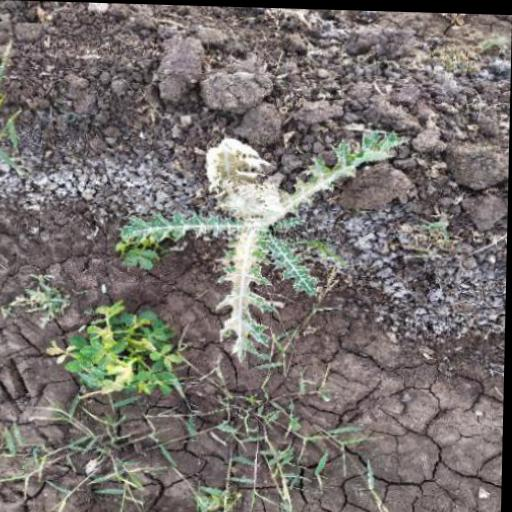weed: (107, 114, 409, 351), (42, 291, 180, 433)
